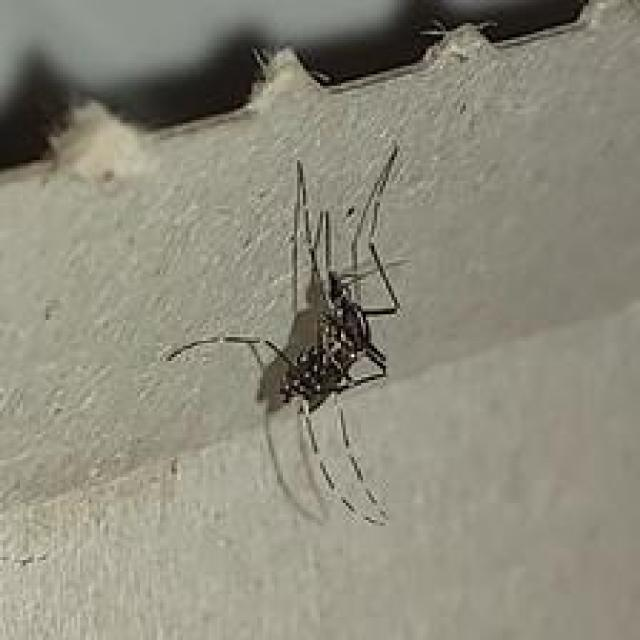Aedes albopictus: (163, 142, 411, 527)
